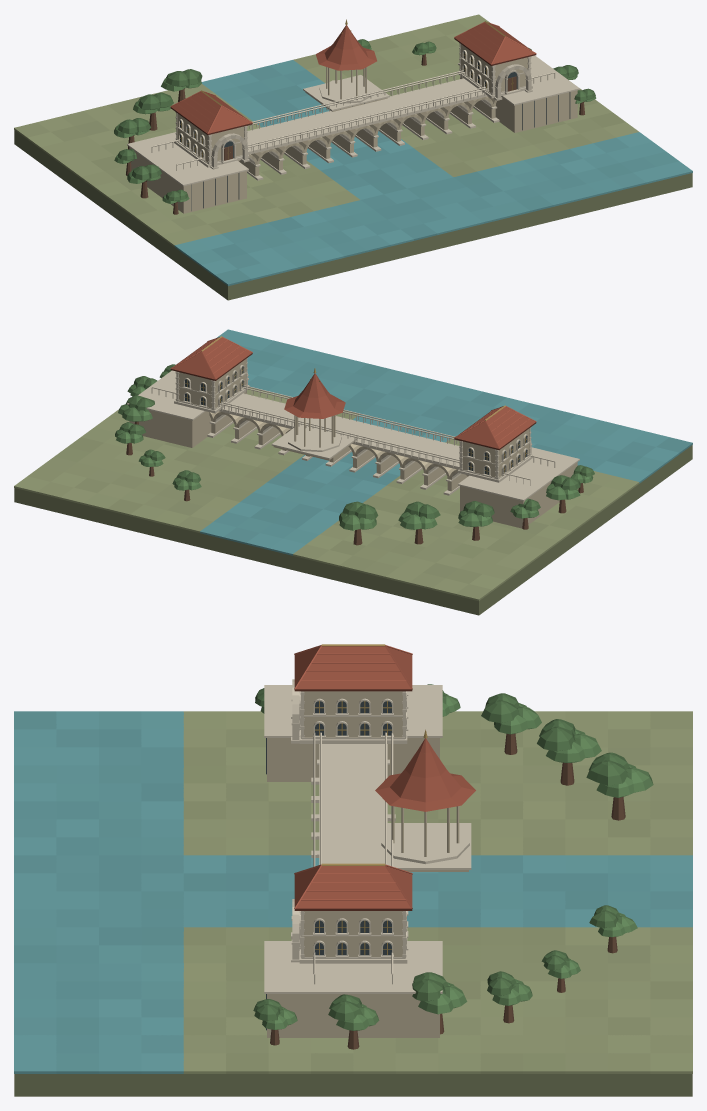
Rendered from bridge.glb.
The picture shows the model from 3 angles, top to bottom: view 1: azimuth 30°, elevation 25°; view 2: azimuth 150°, elevation 25°; view 3: azimuth 270°, elevation 25°; orthographic projection. The views are drawn at different scales.
Visible parts, largest first — view 1: site, span, landscape, span-roof, shrine, shrine-roof; view 2: site, span, landscape, span-roof, shrine, shrine-roof; view 3: site, span, landscape, span-roof, shrine, shrine-roof.
Boxes of the visible parts, x1,y1,x2,y2 form: site: [14, 14, 692, 300]; span: [127, 43, 579, 213]; landscape: [114, 39, 596, 214]; span-roof: [170, 21, 536, 135]; shrine: [303, 67, 389, 111]; shrine-roof: [316, 19, 376, 70]; site: [14, 329, 692, 615]; span: [127, 358, 579, 528]; landscape: [115, 364, 594, 545]; span-roof: [170, 336, 536, 450]; shrine: [271, 415, 357, 460]; shrine-roof: [284, 368, 345, 418]; site: [14, 711, 692, 1096]; span: [264, 679, 442, 1037]; landscape: [253, 684, 653, 1049]; span-roof: [294, 644, 412, 910]; shrine: [379, 806, 471, 871]; shrine-roof: [375, 729, 475, 811].
Size of the model in its own units: 59.01 by 15.3 by 47.06.
